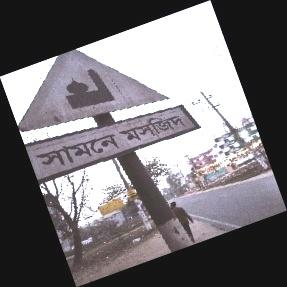Mosque in front: (16, 49, 191, 185)
